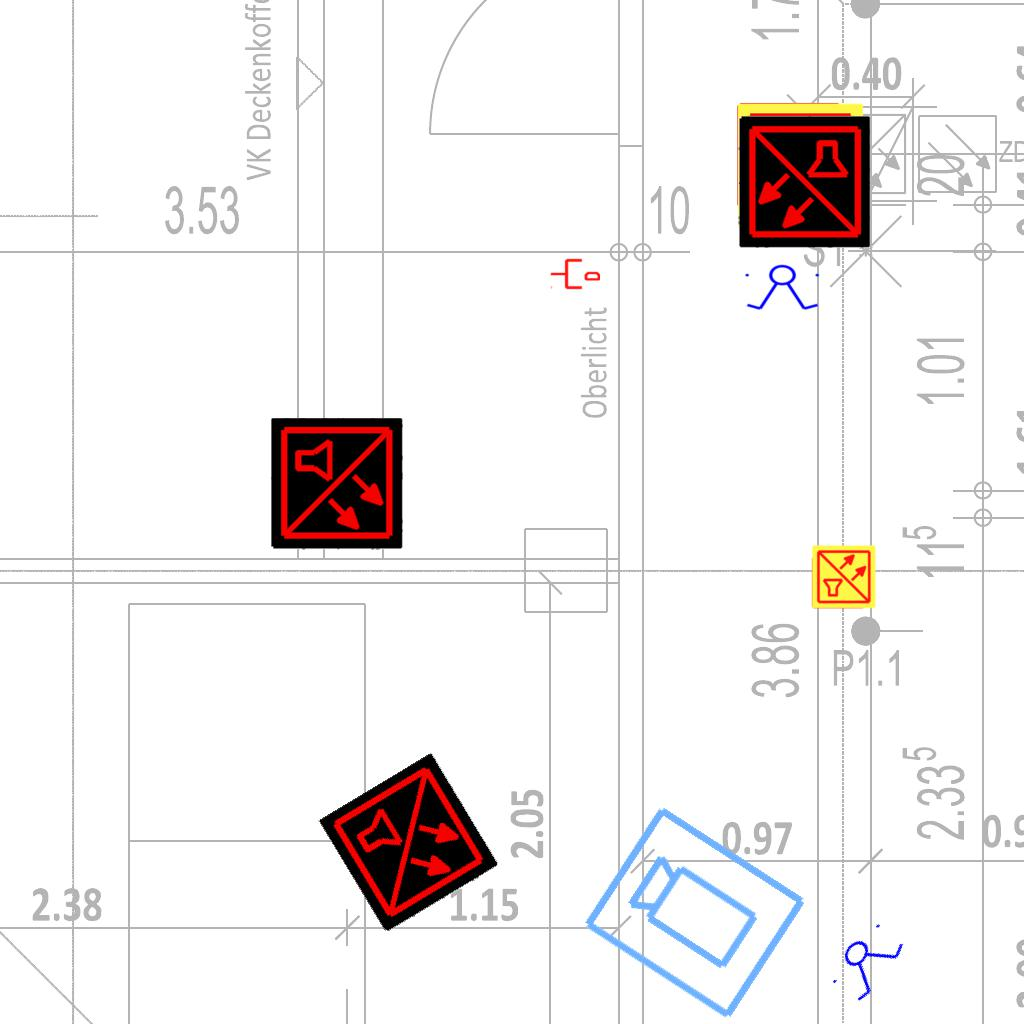Datenanschluss_einfach: (550, 257, 600, 291)
KFO_Kamera_mit_Festobjektiv: (577, 797, 815, 1024)
OKW_Multisensormelder_(Kombination_optischer_Rauch-Kahlenmonoxid_Waerme-Melder): (318, 752, 500, 934), (734, 101, 866, 233), (271, 418, 403, 550), (738, 116, 870, 248), (811, 544, 877, 610)
Serienschalter: (822, 913, 912, 1009), (741, 264, 825, 312)
